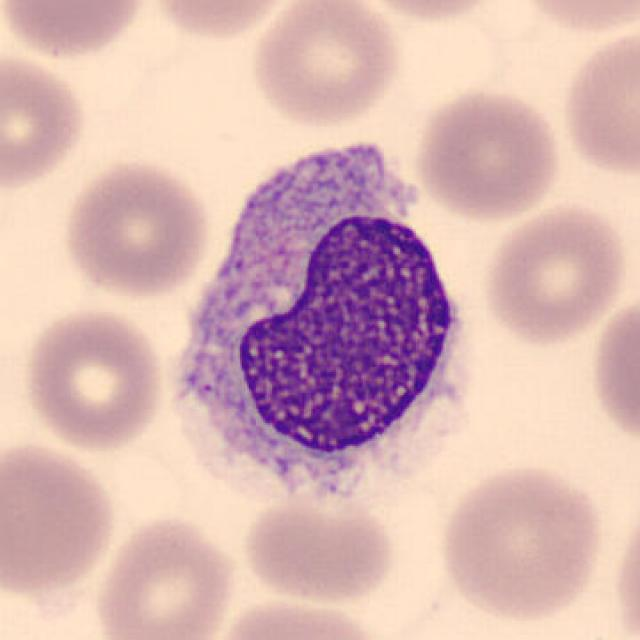Monocyte: (162, 120, 482, 513)
RBC: (434, 458, 608, 626), (57, 155, 215, 302), (18, 303, 169, 455), (478, 200, 631, 348), (411, 83, 565, 222), (245, 0, 405, 130), (238, 485, 400, 608), (90, 511, 242, 640), (0, 437, 121, 598), (0, 46, 91, 197), (556, 25, 638, 182), (0, 0, 155, 62), (205, 592, 391, 640), (587, 287, 638, 455), (144, 0, 304, 44), (508, 0, 638, 37), (608, 493, 640, 640), (350, 0, 507, 25)
